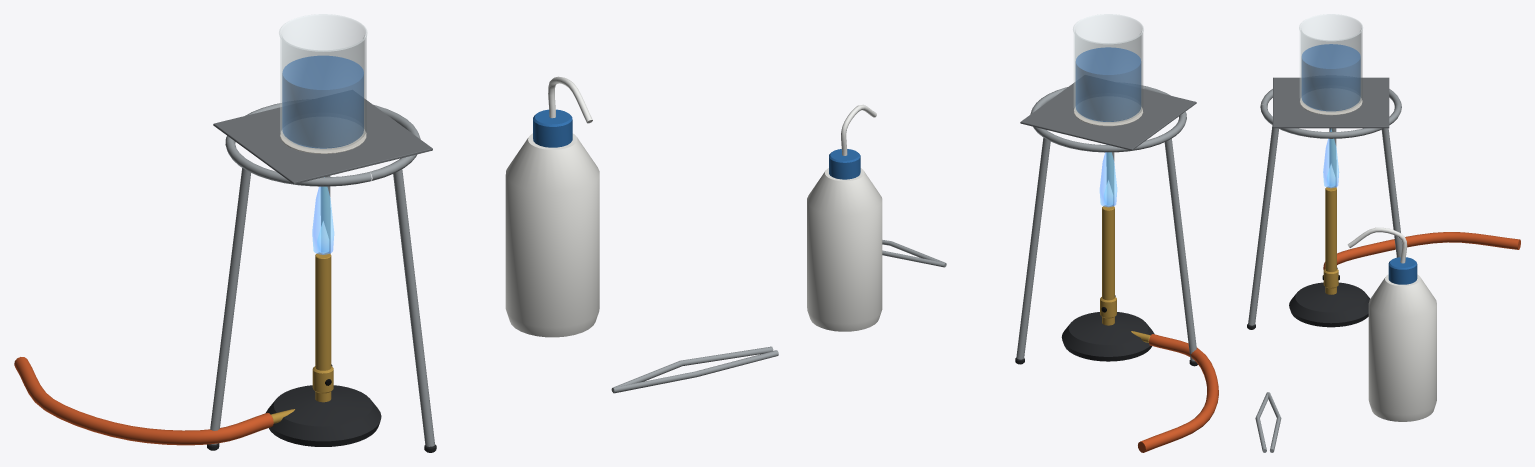
Rendered from bunsen-burner.glb.
The picture shows the model from 3 angles, left to right: view 1: azimuth 30°, elevation 25°; view 2: azimuth 150°, elevation 25°; view 3: azimuth 270°, elevation 25°; orthographic projection. The views are drawn at different scales.
Parts seen in each view (by area): view 1: Bunsen_Burner_And_Tripod; view 2: Bunsen_Burner_And_Tripod; view 3: Bunsen_Burner_And_Tripod.
Part boxes in pixels (<box>): Bunsen_Burner_And_Tripod: <box>14,14,778,452</box>; Bunsen_Burner_And_Tripod: <box>807,14,1218,452</box>; Bunsen_Burner_And_Tripod: <box>1247,14,1520,452</box>.
Bounding box in the file's own units: 0.5662 × 0.3489 × 0.3056.
